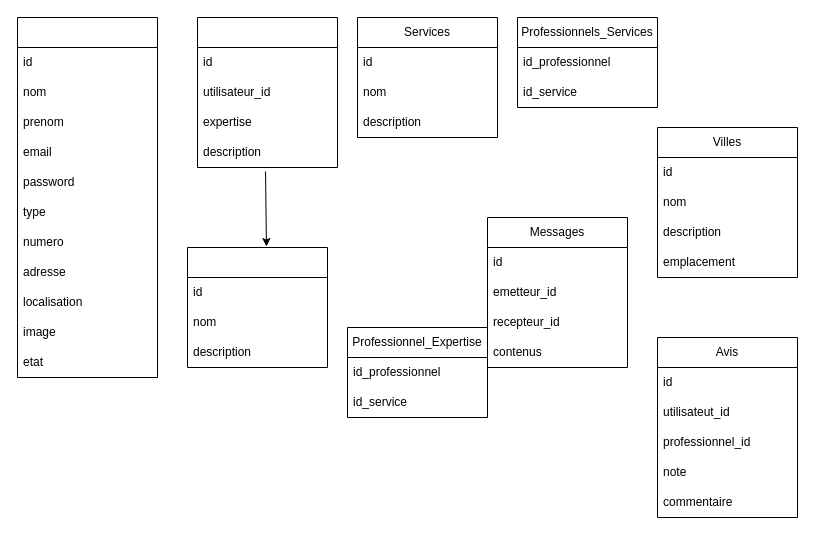
This 815x535 diagram has some shape labels left out. The shapes that lost their labels are listed below. From the top down, each one's box as (x1, y1, x2, y2) in pixels, then its label:
(196, 16, 338, 168): Professionnels
(16, 16, 158, 378): Utilisateurs
(186, 246, 328, 368): Expertises
